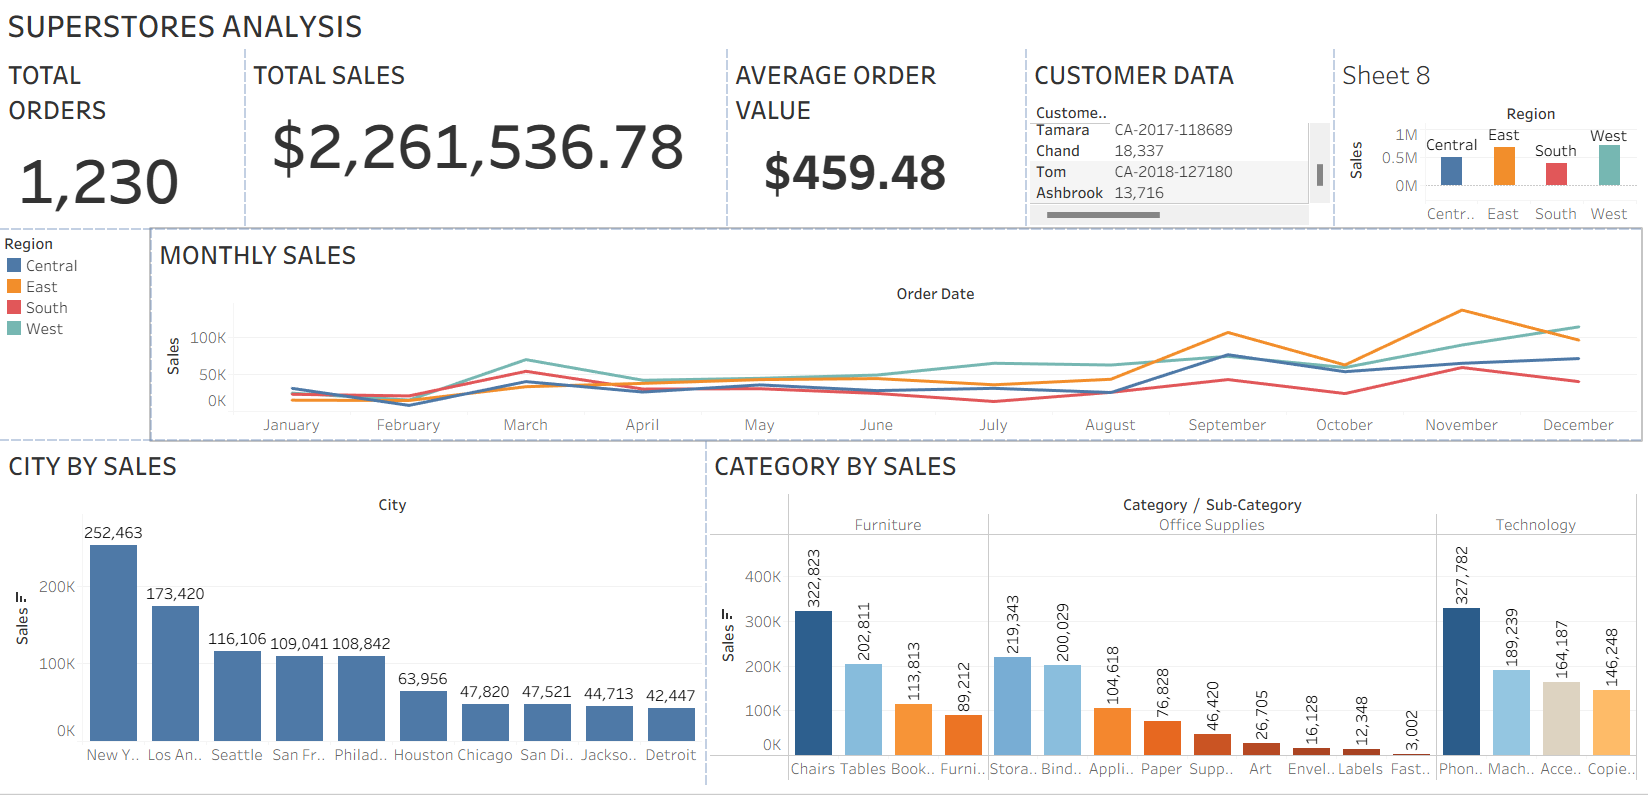

The page's visual inventory and layout, read from the dashboard file:
{"tool":"tableau","page":{"name":"Dashboard 2","canvas":[1000,1000],"units":"permille","ordinal":0},"visuals":[{"type":"title","box":[4.8,10,990.3,61.2]},{"type":"worksheet","title":"TOTAL ORDERS","mark":"Automatic","box":[4.8,71.2,147.9,224.7]},{"type":"worksheet","title":"TOTAL SALES","mark":"Automatic","box":[152.7,71.2,290.9,224.7]},{"type":"worksheet","title":"AVERAGE ORDER VALUE","mark":"Automatic","box":[443.6,71.2,180.5,224.7]},{"type":"worksheet","title":"Sheet 9","mark":"Text","rows":["Customer Name"],"box":[624,71.2,185.6,224.7]},{"type":"worksheet","title":"Sheet 8","mark":"Automatic","rows":["Sales"],"cols":["Region"],"box":[809.6,71.2,185.6,224.7]},{"type":"legend","title":"Sheet 6","param":"[federated.1vwag5c14k5ph20zzmr7l0vcit4f].[none:Region:nk]","box":[4.8,295.9,91.1,263.4]},{"type":"worksheet","title":"Sheet 6","mark":"Line","rows":["Sales"],"cols":["Order Date"],"box":[96,295.9,899.2,263.4]},{"type":"worksheet","title":"Sheet 7","mark":"Bar","rows":["Sales"],"cols":["City"],"box":[4.8,559.2,425.9,430.8]},{"type":"worksheet","title":"Sheet 5","mark":"Bar","rows":["Sales"],"cols":["Category","Sub-Category"],"box":[430.8,559.2,564.4,430.8]}]}

Visuals, with their boxes on the dashboard's canvas, which has no fixed pixel size, in thousandths of its width and height (x1, y1, x2, y2). These are canvas units, not pixel positions in the 1648x795 screenshot, which may show the page scaled, cropped or inside an application window:
title: (left=5, top=10, right=995, bottom=71)
"TOTAL ORDERS" worksheet: (left=5, top=71, right=153, bottom=296)
"TOTAL SALES" worksheet: (left=153, top=71, right=444, bottom=296)
"AVERAGE ORDER VALUE" worksheet: (left=444, top=71, right=624, bottom=296)
"Sheet 9" worksheet (Text marks): (left=624, top=71, right=810, bottom=296)
"Sheet 8" worksheet: (left=810, top=71, right=995, bottom=296)
"Sheet 6" legend: (left=5, top=296, right=96, bottom=559)
"Sheet 6" worksheet (Line marks): (left=96, top=296, right=995, bottom=559)
"Sheet 7" worksheet (Bar marks): (left=5, top=559, right=431, bottom=990)
"Sheet 5" worksheet (Bar marks): (left=431, top=559, right=995, bottom=990)
